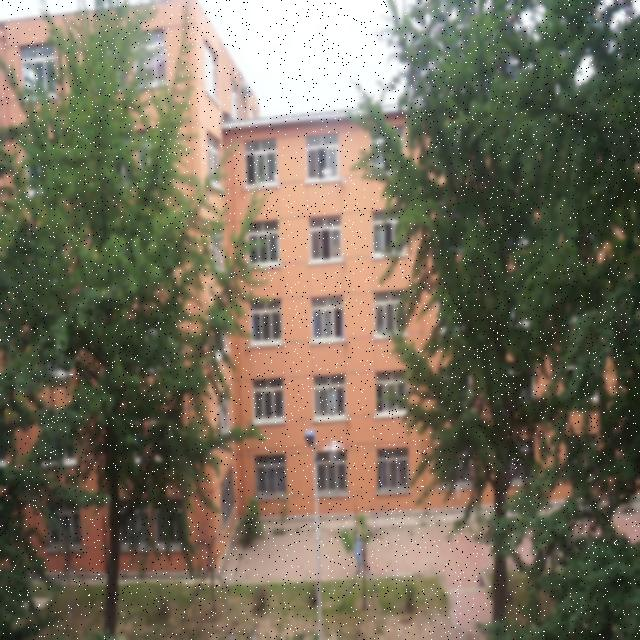UAV: (323, 440, 344, 460)
